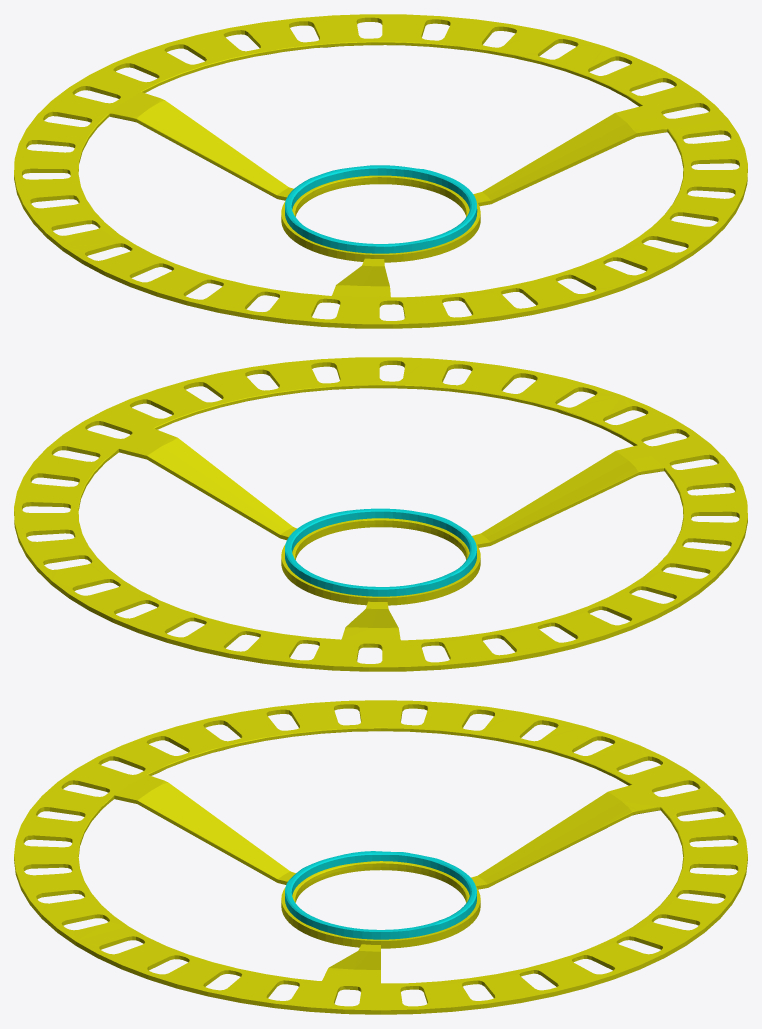
File: inner_structure.glb
3 views of the same model, one above another, from view 1: azimuth 30°, elevation 25°; view 2: azimuth 150°, elevation 25°; view 3: azimuth 270°, elevation 25° (orthographic).
Parts seen in each view (by area): view 1: arc_reactor_mk1_inner_ring; view 2: arc_reactor_mk1_inner_ring; view 3: arc_reactor_mk1_inner_ring.
Boxes of the visible parts, x1,y1,x2,y2 form: arc_reactor_mk1_inner_ring: (14, 14, 747, 328); arc_reactor_mk1_inner_ring: (14, 357, 747, 671); arc_reactor_mk1_inner_ring: (14, 700, 747, 1014).
Bounding box in the file's own units: 1.45 × 0.1119 × 1.45.
